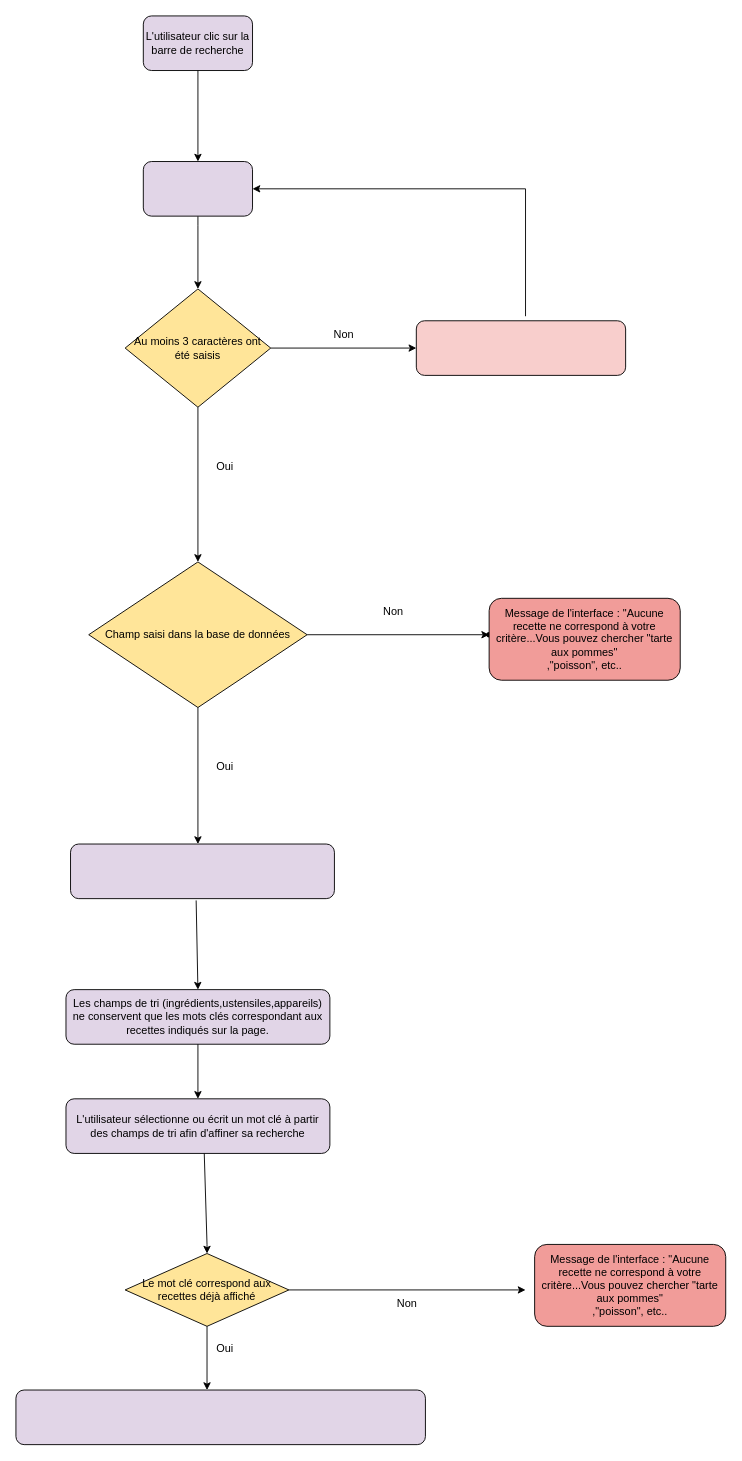
This 742x1461 diagram has some shape labels left out. The centre of each missing label's shape, as x and y in pixels:
L'interface affiche les recettes à partir des mots clefs et du champs de saisi: point (220, 1417)
L'utilisateur entre une saisie dans le champs de recherche: point (197, 188)
Message: "Veuillez entrer plus de caractères dans le champ de recherche: point (520, 347)
Page de recettes chargés avec les recettes contenant le champs de saisis: point (202, 871)
